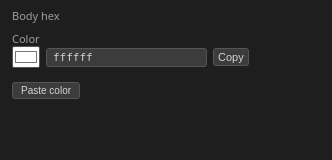
HexStrControlRow — Concurrency & Timing Edge Cases › Paste hint auto-clear timing › component unmount clears the hint timeout (no memory leak)
Click the button "Paste color": (46, 90) [12,82,80,99]
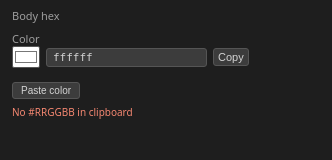
Expected: the message "No #RRGGBB in clipboard" is shown, [12,105,133,119]
